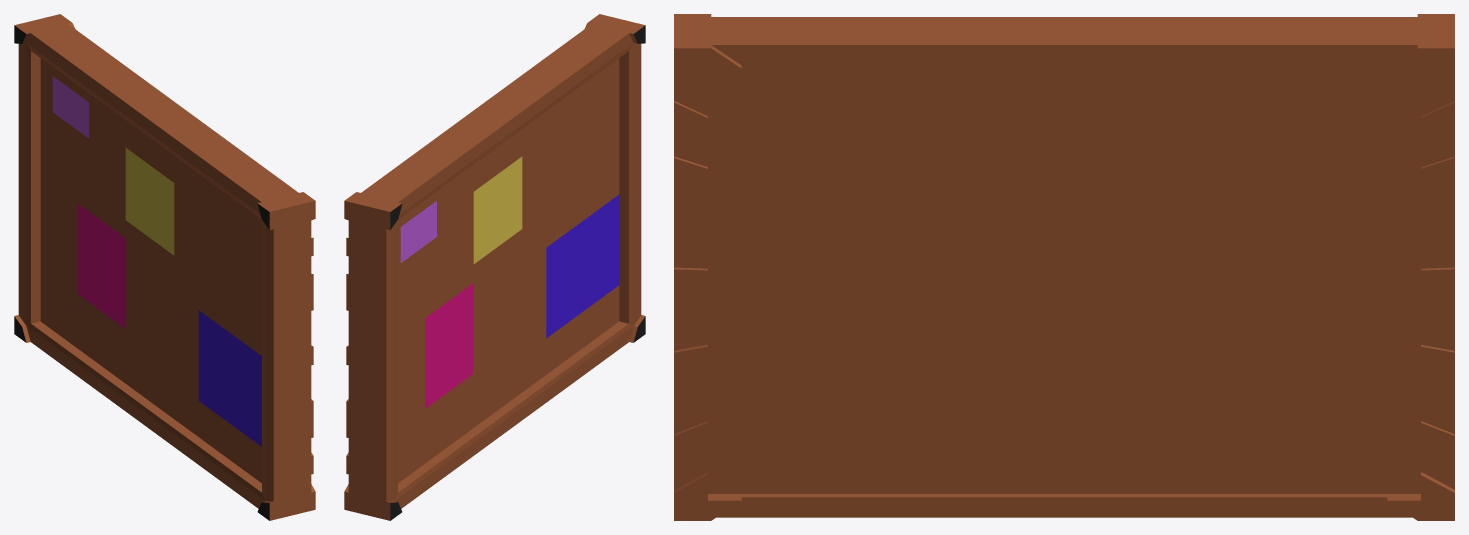
The model's file is chart_table.fbx.
The picture shows the model from 3 angles, left to right: view 1: azimuth 30°, elevation 25°; view 2: azimuth 150°, elevation 25°; view 3: azimuth 270°, elevation 25°; orthographic projection. The views are drawn at different scales.
Parts seen in each view (by area): view 1: Cube; view 2: Cube; view 3: Cube.
Boxes of the visible parts, box(x1,y1,x2,y2) form: Cube: box(14, 14, 315, 520); Cube: box(344, 14, 645, 520); Cube: box(674, 14, 1454, 520).
Bounding box in the file's own units: 26.23 × 168 × 252.
